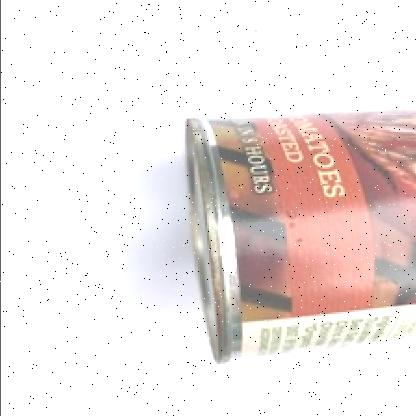Can: (182, 108, 416, 366)
